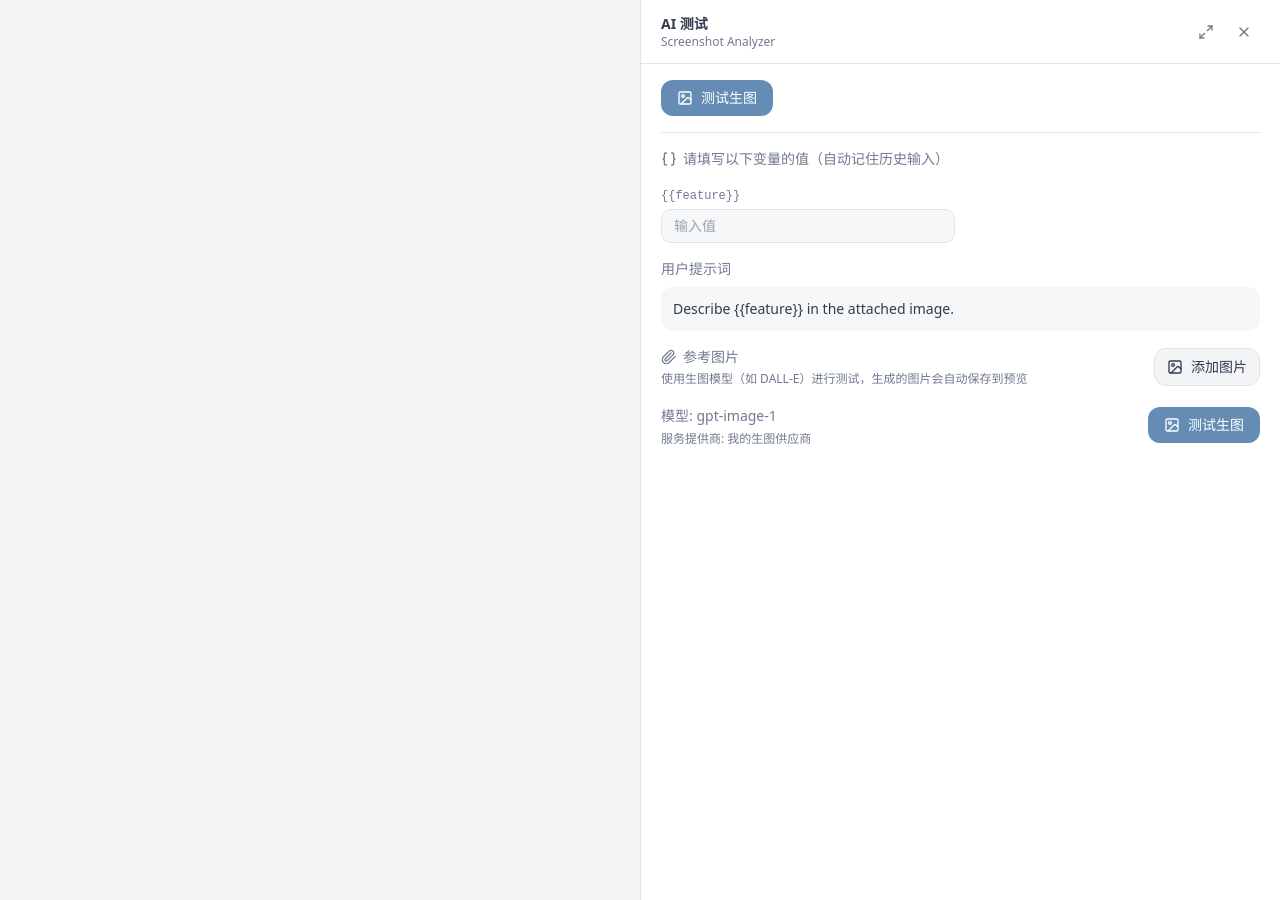
it: AiTestModal workbench › keeps image generation failure details visible in the image test panel
Click the button "测试生图" in the row of "我的生图供应商": (1204, 425) [1148,407,1260,443]
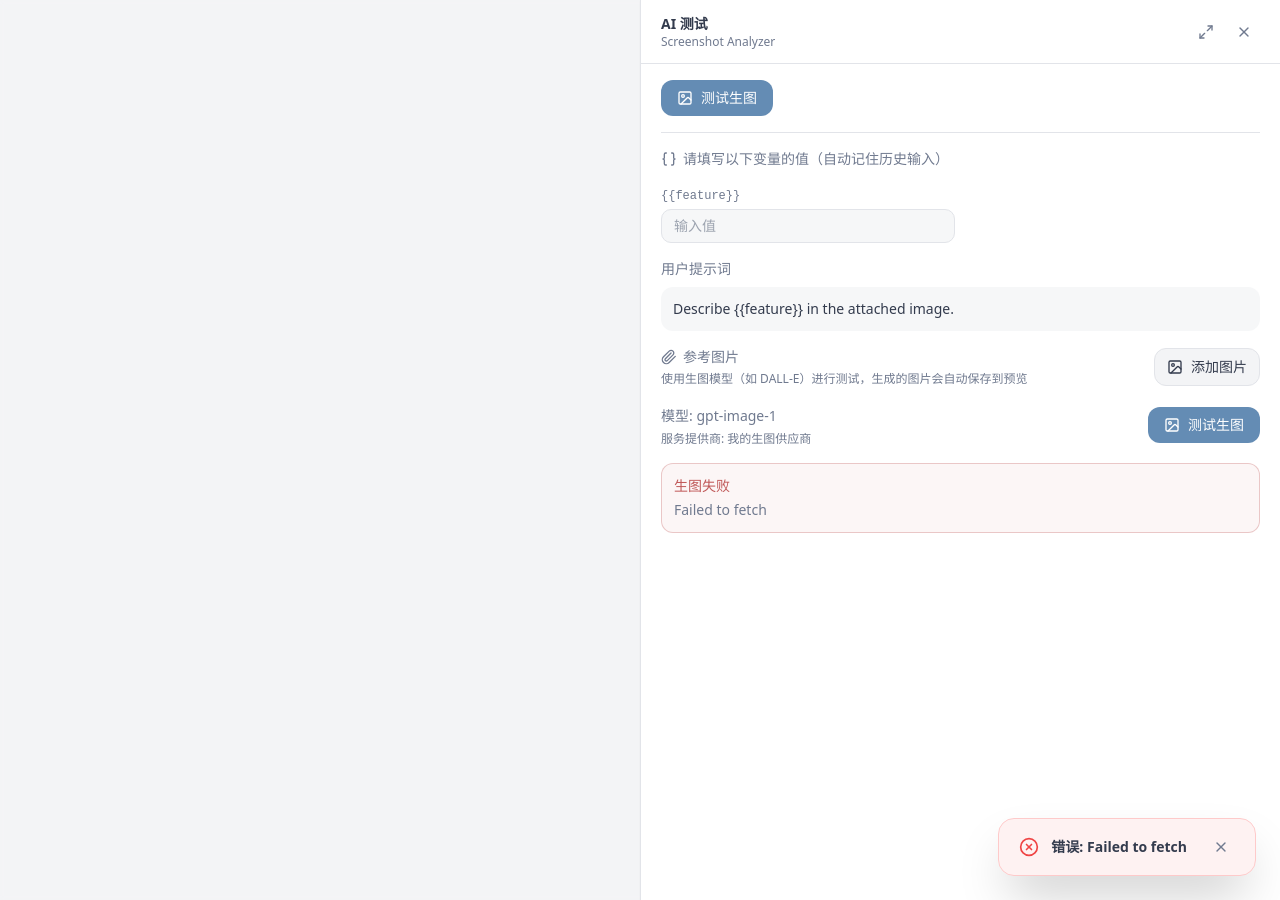
Expected: the text "生图失败" is shown, [674,476,730,495]
Expected: the text "Failed to fetch" is shown, [674,500,767,519]
